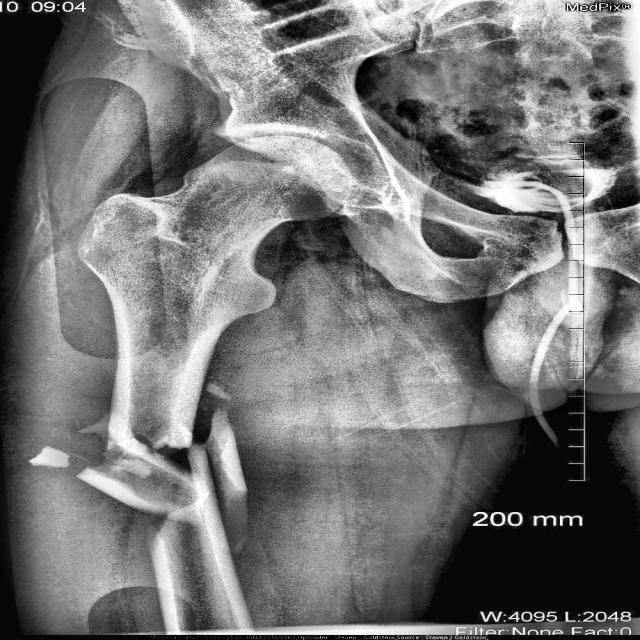messed_up_angle: (21, 378, 270, 551)
